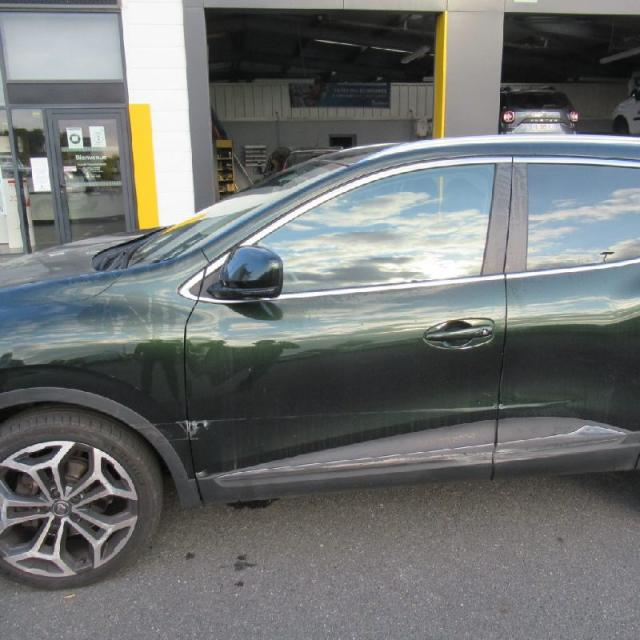porte-avant: (183, 157, 517, 507)
